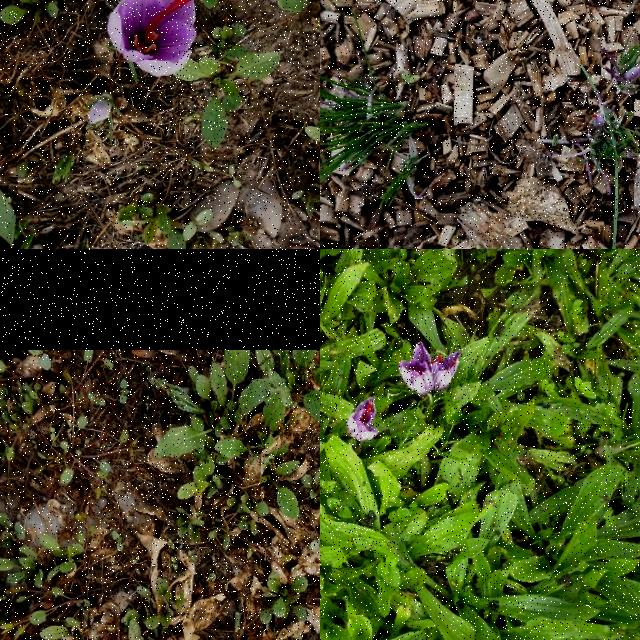flower: (108, 0, 198, 77), (400, 342, 442, 396), (348, 397, 378, 441), (432, 351, 462, 392), (622, 63, 640, 82)
